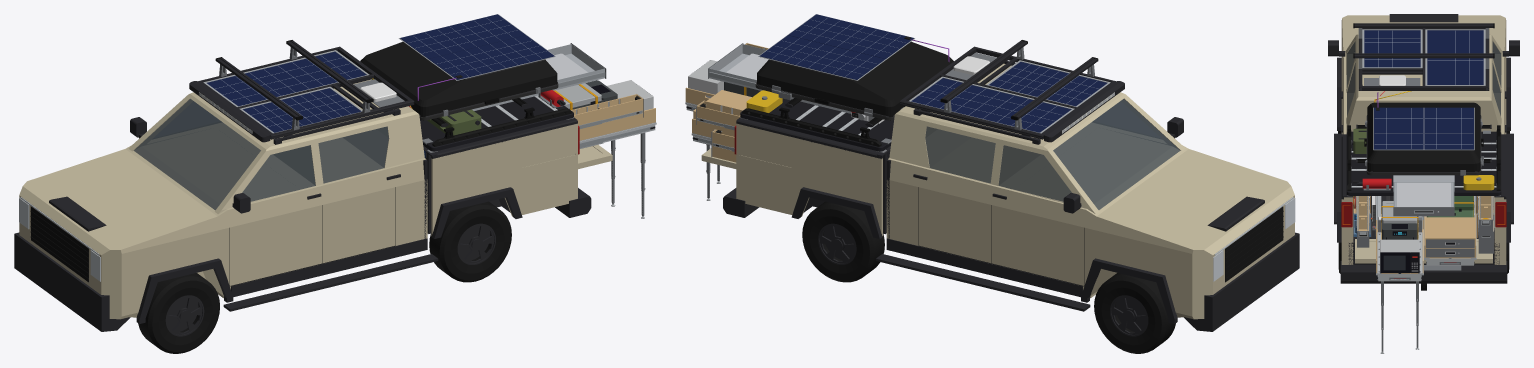
File: fitout_camp.glb
The picture shows the model from 3 angles, left to right: view 1: azimuth 30°, elevation 25°; view 2: azimuth 150°, elevation 25°; view 3: azimuth 270°, elevation 25°; orthographic projection. The views are drawn at different scales.
Parts seen in each view (by area): view 1: vehicle__cab_body, vehicle__cab_body_trim, vehicle__cab_glass, vehicle__tub_skin_passenger, tent__tent_shell, vehicle__wheel_430_-1, vehicle__wheel_-2840_-1, solar__roof_solar_190w, solar__tent_solar_2, solar__tent_solar_1, solar__roof_solar_130w, lid__load_lid (+21 smaller); view 2: vehicle__cab_body, vehicle__cab_body_trim, vehicle__cab_glass, vehicle__tub_skin_driver, tent__tent_shell, vehicle__wheel_430_1, vehicle__wheel_-2840_1, solar__roof_solar_190w, solar__tent_solar_2, solar__tent_solar_1, lid__load_lid, solar__roof_solar_130w (+21 smaller); view 3: vehicle__cab_body, tent__tent_shell, vehicle__cab_body_trim, solar__roof_solar_190w, vehicle__rear_bumper, solar__tent_solar_2, solar__tent_solar_1, lid__load_lid, solar__roof_solar_130w, lid_cargo__uts_table_folded, payload__drawer_module, vehicle__cab_glass (+52 smaller).
Boxes of the visible parts, left/top/right/bottom form: vehicle__cab_body: left=19, top=79, right=427, bottom=319; vehicle__cab_body_trim: left=14, top=117, right=522, bottom=331; vehicle__cab_glass: left=134, top=99, right=388, bottom=210; vehicle__tub_skin_passenger: left=431, top=123, right=577, bottom=235; tent__tent_shell: left=360, top=42, right=557, bottom=117; vehicle__wheel_430_-1: left=429, top=201, right=511, bottom=282; vehicle__wheel_-2840_-1: left=138, top=273, right=219, bottom=353; solar__roof_solar_190w: left=207, top=51, right=366, bottom=106; solar__tent_solar_2: left=400, top=14, right=525, bottom=58; solar__tent_solar_1: left=429, top=35, right=554, bottom=79; solar__roof_solar_130w: left=243, top=88, right=361, bottom=132; lid__load_lid: left=420, top=96, right=573, bottom=151; vehicle__cab_body: left=886, top=63, right=1294, bottom=319; vehicle__cab_body_trim: left=791, top=117, right=1299, bottom=331; vehicle__cab_glass: left=925, top=99, right=1180, bottom=209; vehicle__tub_skin_driver: left=736, top=123, right=882, bottom=235; tent__tent_shell: left=757, top=41, right=953, bottom=117; vehicle__wheel_430_1: left=802, top=201, right=884, bottom=282; vehicle__wheel_-2840_1: left=1094, top=273, right=1175, bottom=353; solar__roof_solar_190w: left=911, top=78, right=1071, bottom=132; solar__tent_solar_2: left=759, top=35, right=885, bottom=79; solar__tent_solar_1: left=788, top=14, right=913, bottom=58; lid__load_lid: left=740, top=98, right=893, bottom=151; solar__roof_solar_130w: left=989, top=62, right=1107, bottom=106; vehicle__cab_body: left=1341, top=15, right=1506, bottom=134; tent__tent_shell: left=1367, top=102, right=1480, bottom=172; vehicle__cab_body_trim: left=1328, top=14, right=1519, bottom=242; solar__roof_solar_190w: left=1427, top=30, right=1483, bottom=84; vehicle__rear_bumper: left=1340, top=261, right=1507, bottom=283; solar__tent_solar_2: left=1424, top=107, right=1473, bottom=149; solar__tent_solar_1: left=1374, top=107, right=1423, bottom=149; lid__load_lid: left=1346, top=131, right=1501, bottom=195; solar__roof_solar_130w: left=1364, top=30, right=1420, bottom=67; lid_cargo__uts_table_folded: left=1397, top=182, right=1450, bottom=206; payload__drawer_module: left=1425, top=217, right=1475, bottom=257; vehicle__cab_glass: left=1346, top=41, right=1501, bottom=115.
Size of the model in its own units: 6.39 by 2.15 by 2.13.
